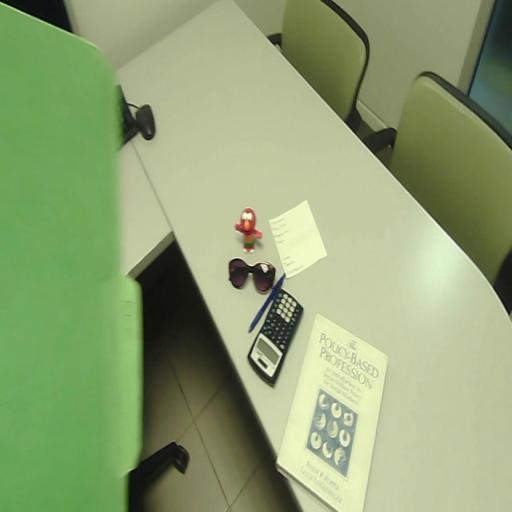pen: (248, 274, 285, 333)
